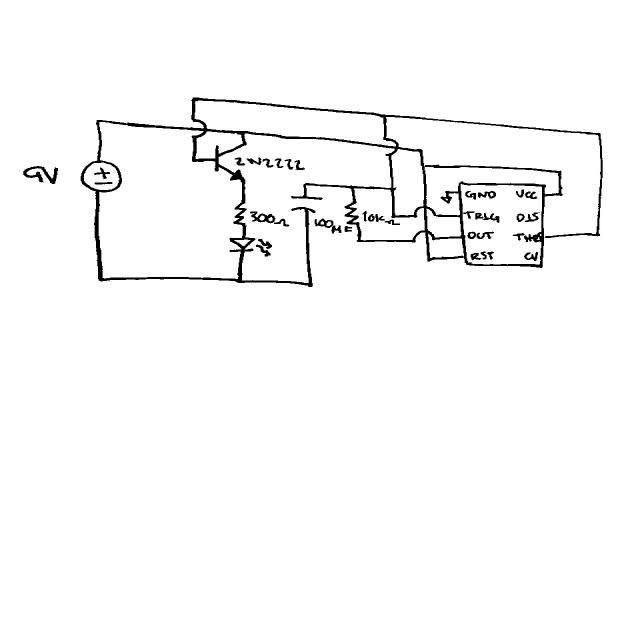capacitor: (287, 192, 325, 216)
crossover: (411, 229, 438, 246), (189, 117, 208, 140), (413, 205, 438, 220), (382, 137, 400, 157)
diode: (227, 235, 274, 258)
ground: (439, 195, 452, 204)
junction: (303, 278, 315, 290), (93, 116, 107, 126), (95, 275, 109, 284), (187, 95, 201, 104), (234, 276, 246, 286), (355, 237, 366, 246), (593, 130, 604, 138), (379, 112, 390, 120), (425, 254, 434, 263), (555, 168, 565, 176), (237, 128, 248, 135), (419, 162, 428, 170), (387, 186, 399, 192), (190, 156, 199, 164), (555, 190, 565, 197), (417, 146, 425, 154), (593, 231, 602, 238), (388, 213, 400, 218), (301, 181, 310, 187), (349, 184, 356, 191), (444, 189, 451, 194)
resistor: (341, 200, 361, 226), (232, 200, 248, 228)
source: (78, 158, 125, 194)
text: (232, 155, 306, 172), (18, 164, 61, 187), (249, 208, 290, 228), (362, 208, 401, 227), (313, 216, 353, 234), (463, 210, 501, 224), (513, 231, 541, 244), (464, 190, 497, 200), (466, 230, 495, 240), (515, 188, 538, 200), (470, 250, 495, 261), (515, 212, 539, 223), (523, 251, 539, 263)
transistor: (213, 141, 249, 184)
